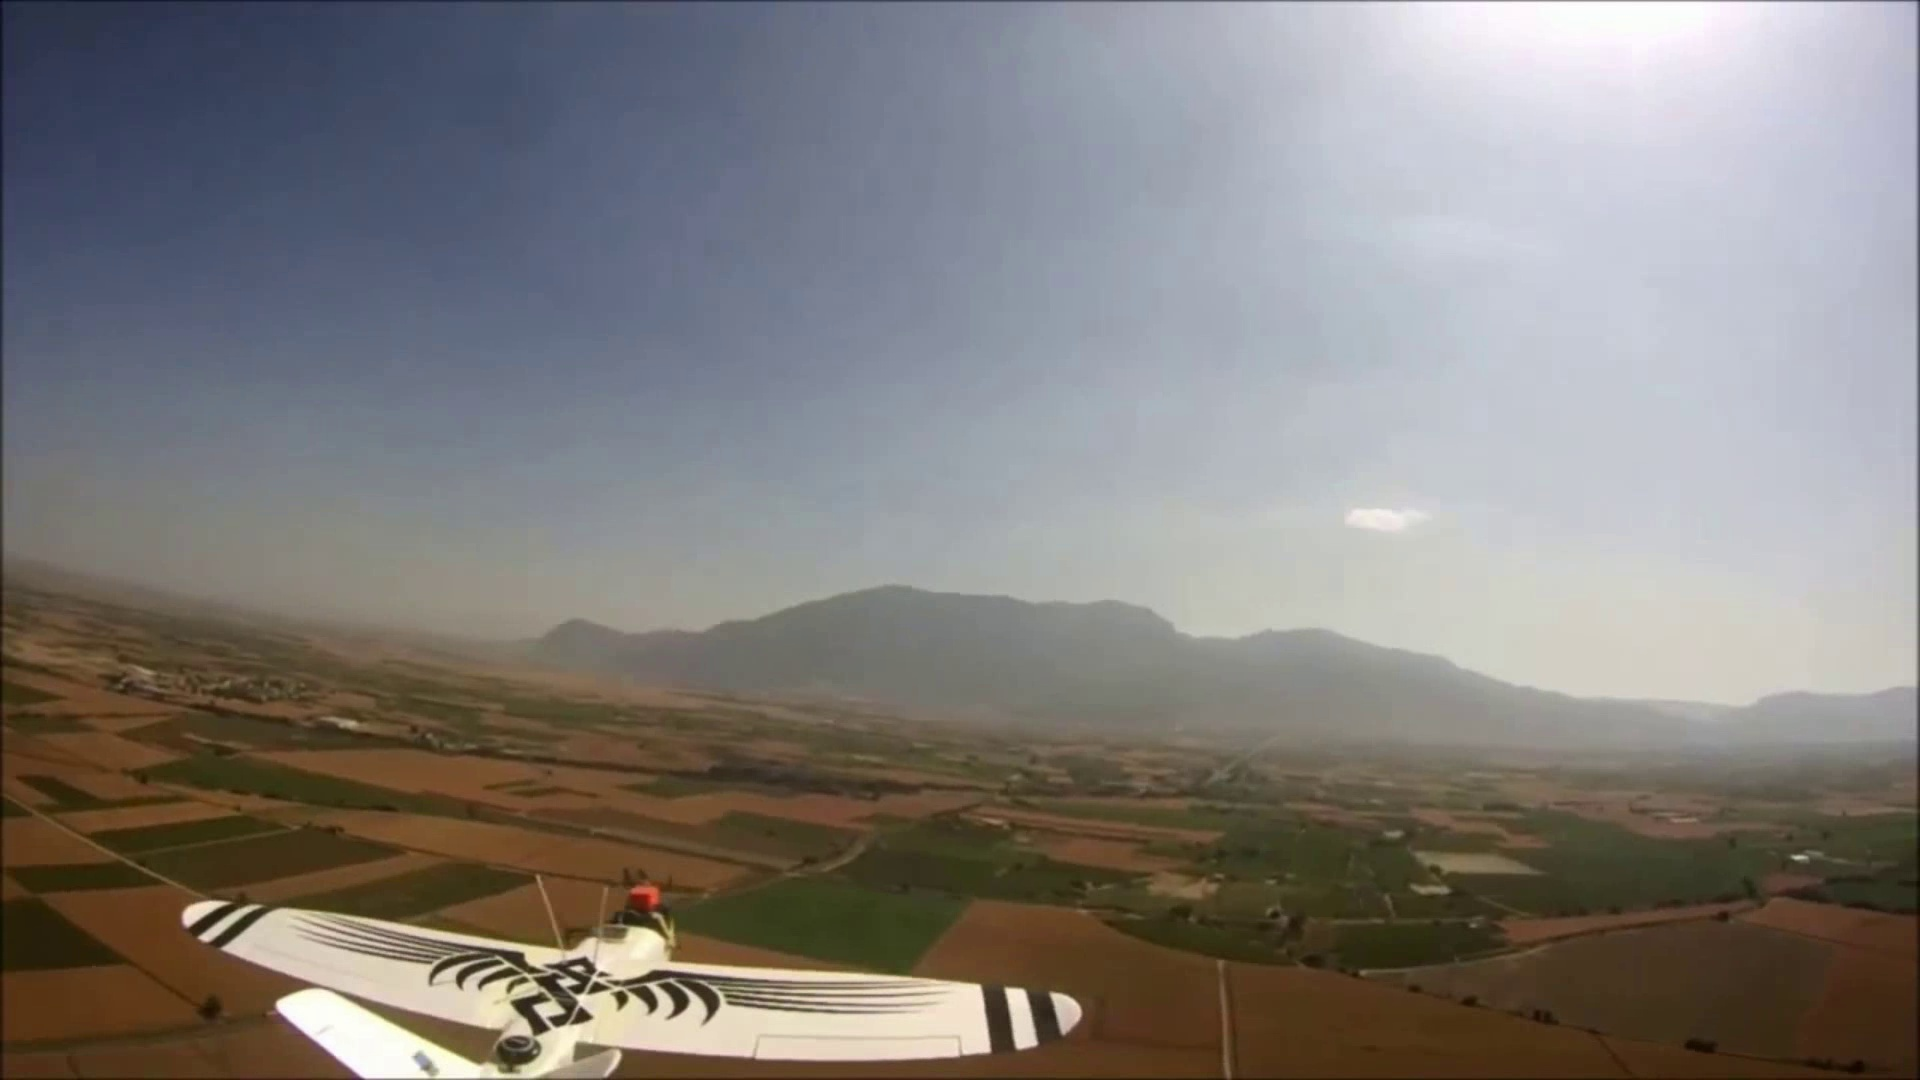airplane: (229, 909, 1073, 1073)
